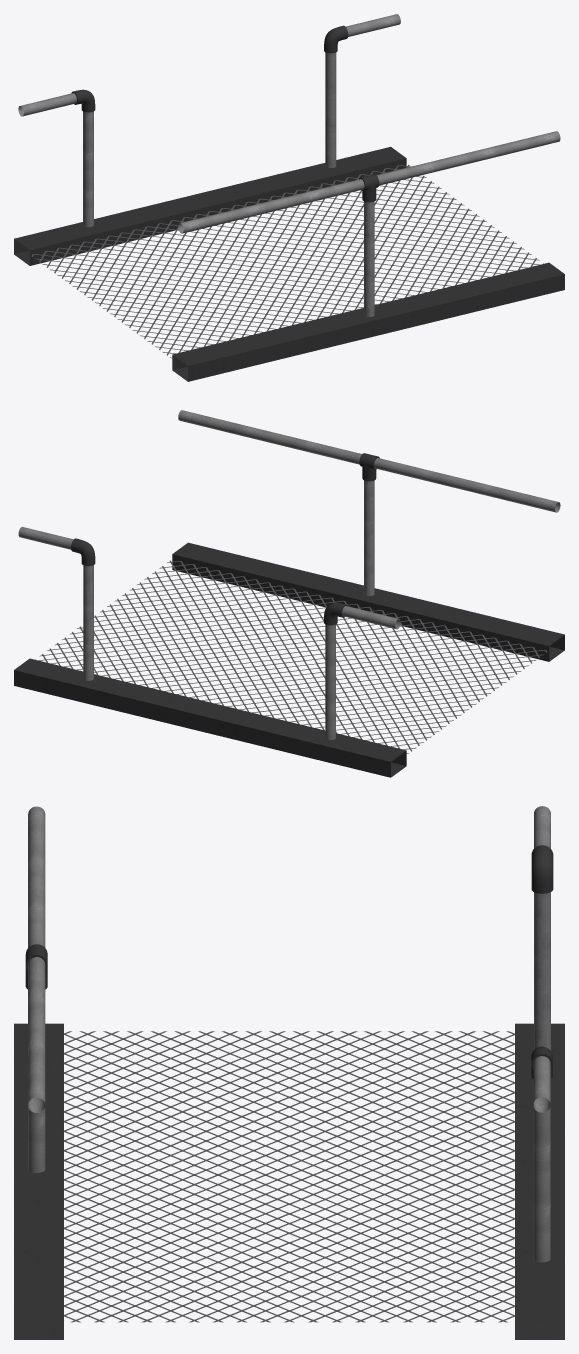
Rendered from CatWalk_Opening.fbx.
3 views of the same model, one above another, from view 1: azimuth 30°, elevation 25°; view 2: azimuth 150°, elevation 25°; view 3: azimuth 270°, elevation 25° (orthographic). The views are drawn at different scales.
Parts seen in each view (by area): view 1: CatWalk_Opening; view 2: CatWalk_Opening; view 3: CatWalk_Opening.
Part boxes in pixels (x1=…): CatWalk_Opening: x1=14, y1=14, x2=564, y2=381; CatWalk_Opening: x1=14, y1=410, x2=564, y2=777; CatWalk_Opening: x1=14, y1=806, x2=564, y2=1339.
Bounding box in the file's own units: 5 × 1.96 × 4.
